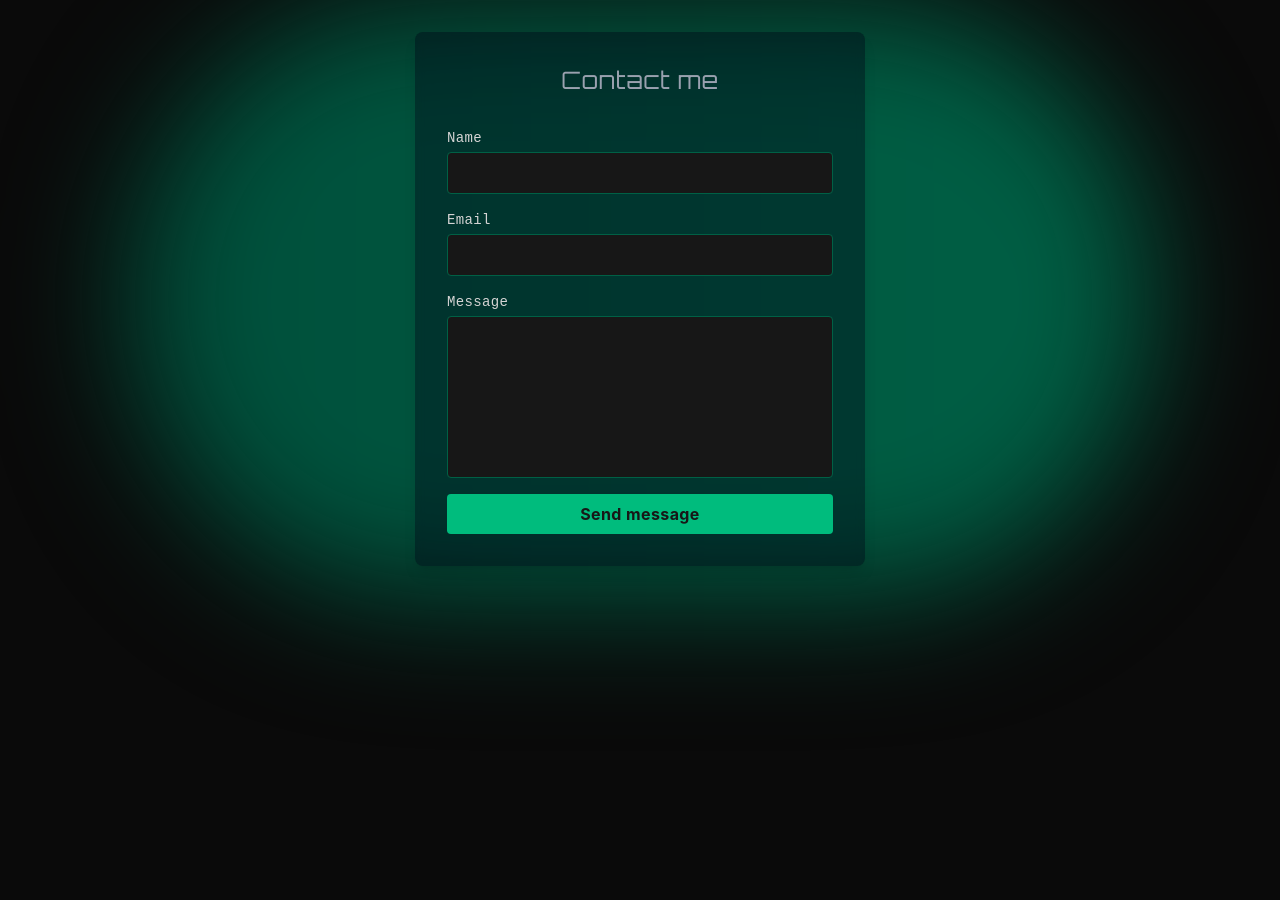
Test: displays form errors
This screenshot has width=1280, height=900.
Click the button "Send message".
click(640, 514)  # box [447,494,833,534]
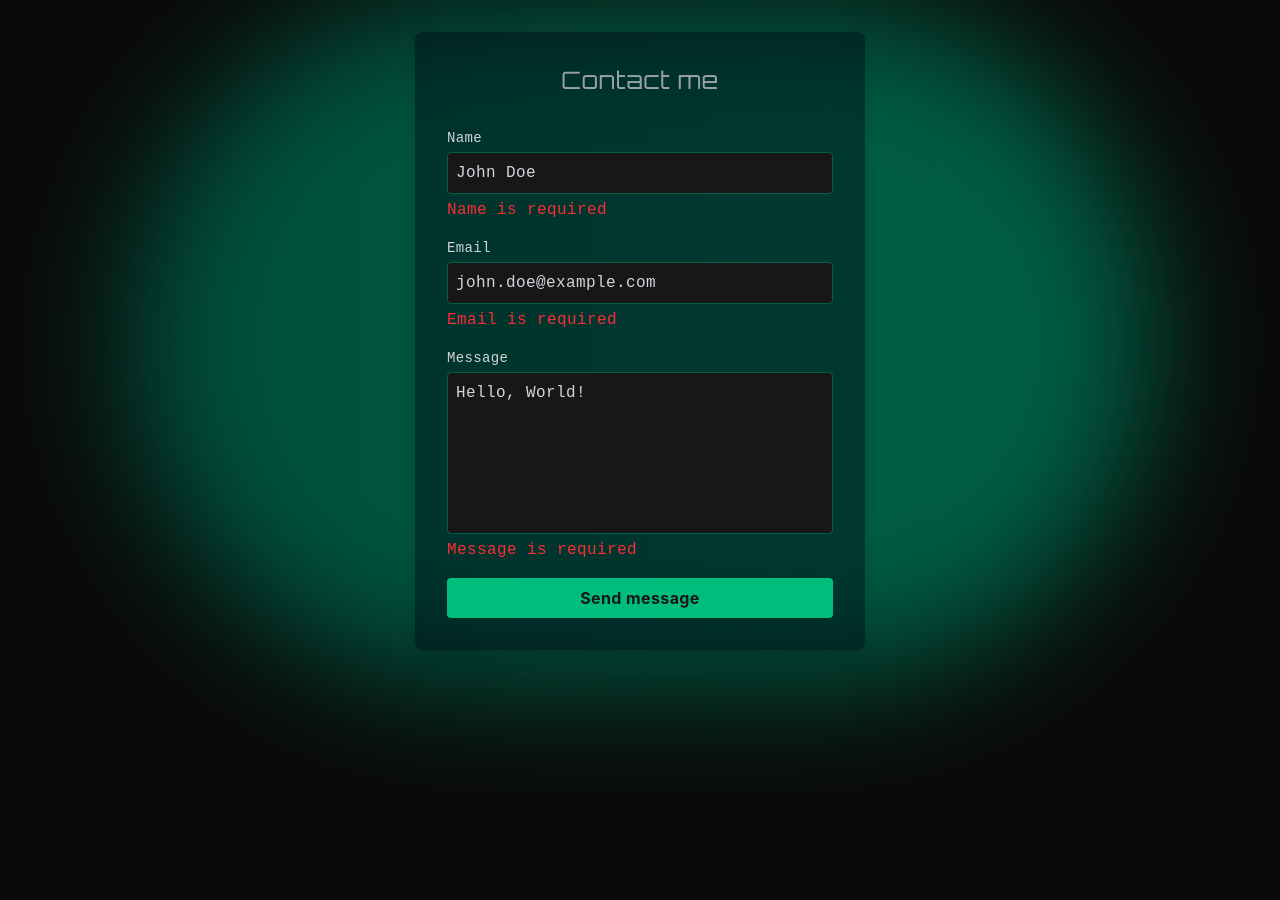
Expected: the text "Name is required" is shown, [447,201,607,219]
Expected: the text "Email is required" is shown, [447,311,617,329]
Expected: the text "Message is required" is shown, [447,541,637,559]
